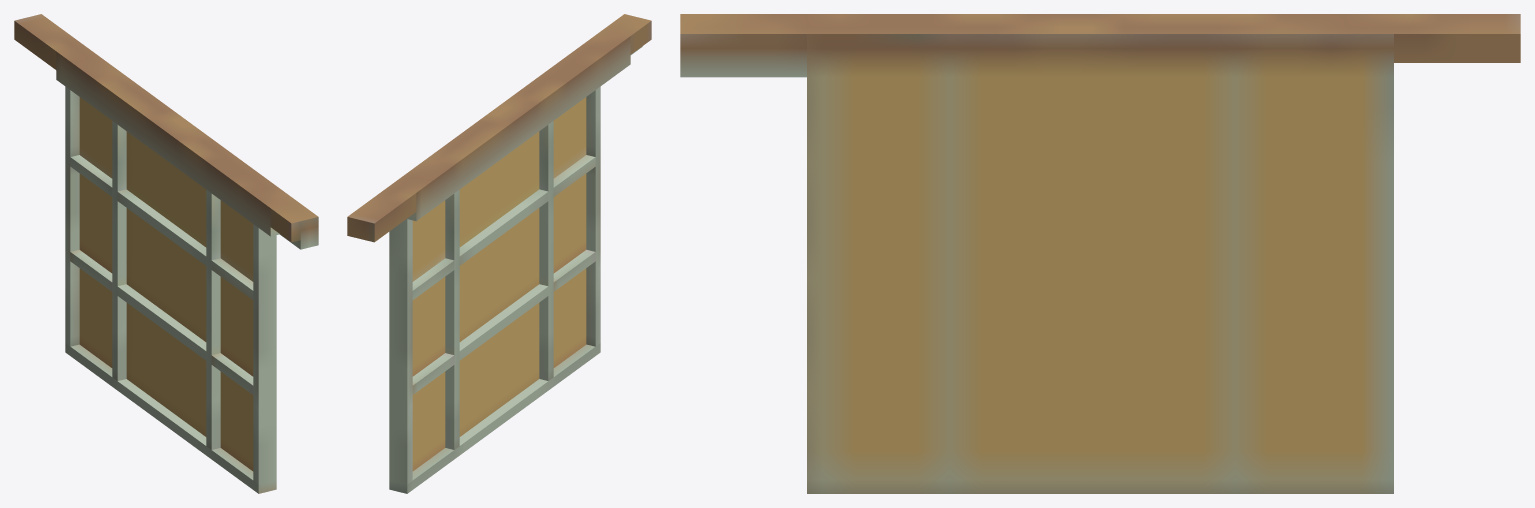
File: WindowFrameLargeInside_A_01.obj
The picture shows the model from 3 angles, left to right: view 1: azimuth 30°, elevation 25°; view 2: azimuth 150°, elevation 25°; view 3: azimuth 270°, elevation 25°; orthographic projection. The views are drawn at different scales.
Parts seen in each view (by area): view 1: WindowFrameLargeInside_A_01; view 2: WindowFrameLargeInside_A_01; view 3: WindowFrameLargeInside_A_01.
Boxes of the visible parts, box(x1,y1,x2,y2) form: WindowFrameLargeInside_A_01: box(14, 14, 318, 493); WindowFrameLargeInside_A_01: box(347, 14, 651, 493); WindowFrameLargeInside_A_01: box(680, 14, 1520, 493).
Size of the model in its own units: 0.15 by 1.6 by 2.65.
